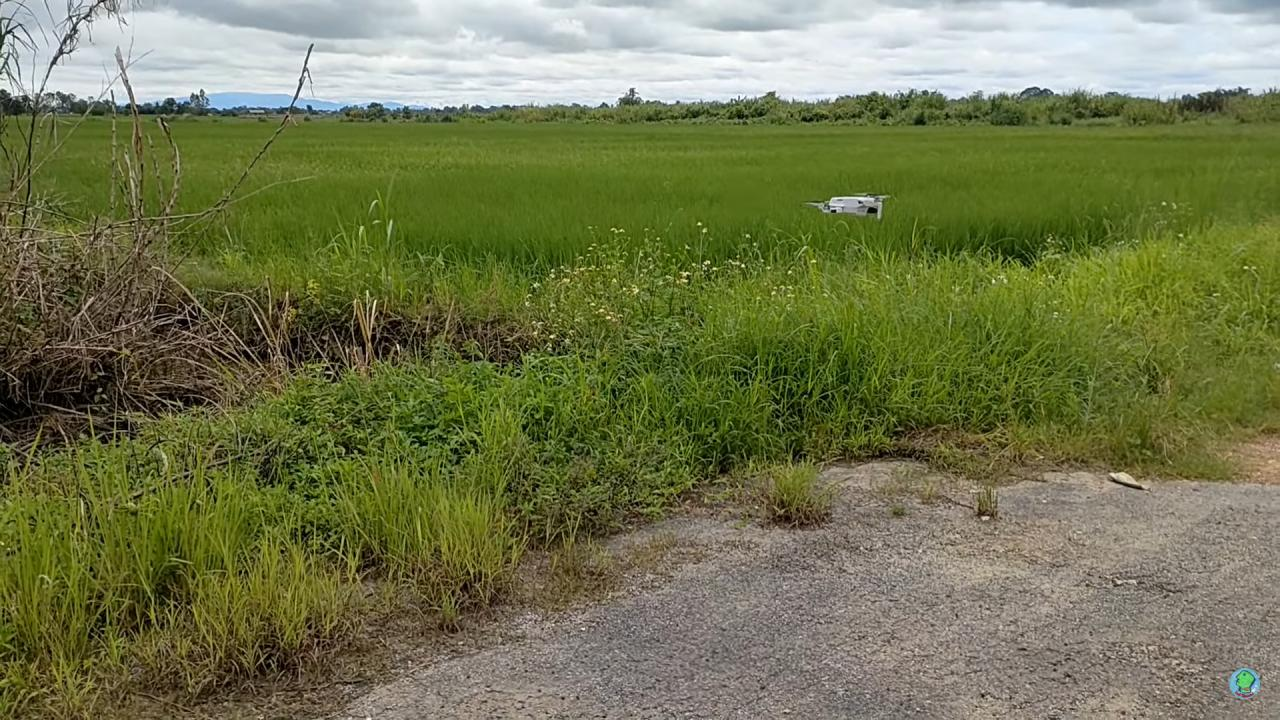Drone: (803, 181, 902, 229)
